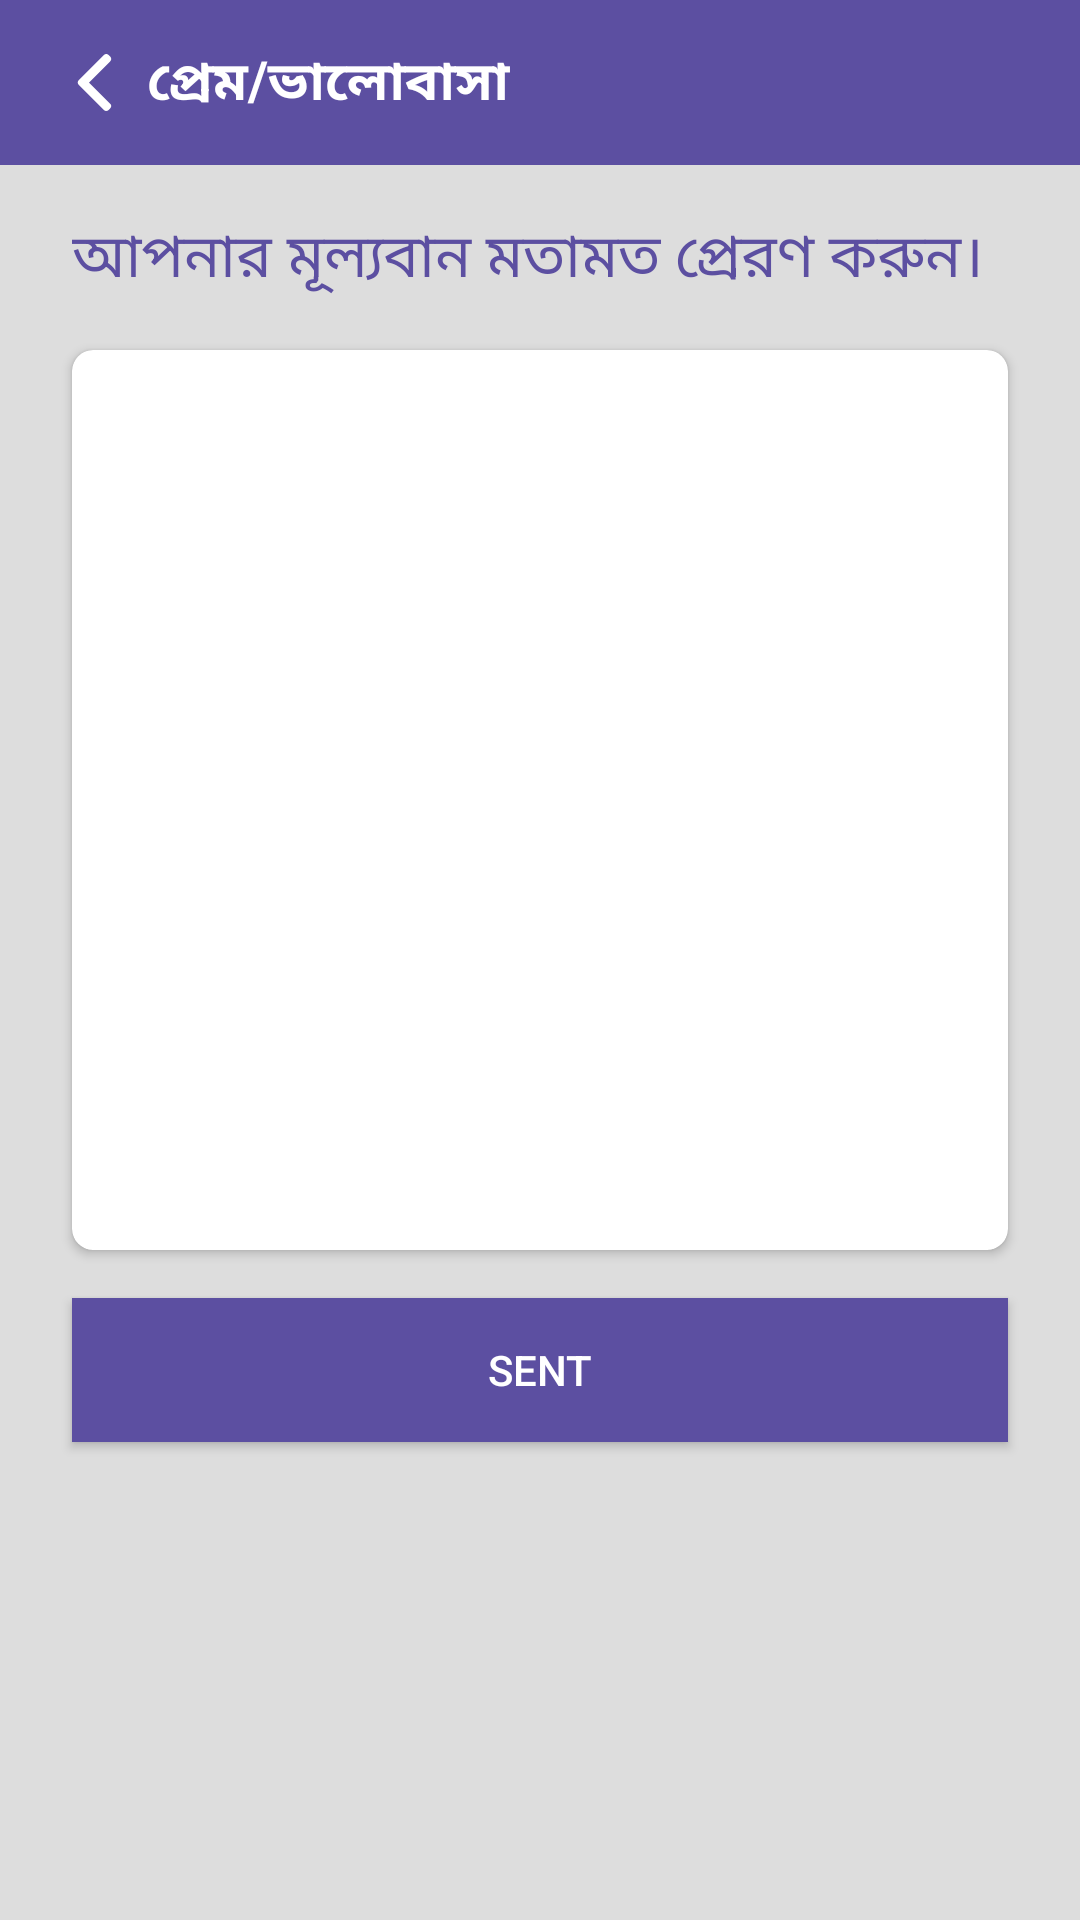

Where icons sit on this 1080 x 1920 app screen, as (x1, y1, x2, y2):
left arrow: (77, 54, 111, 111)
